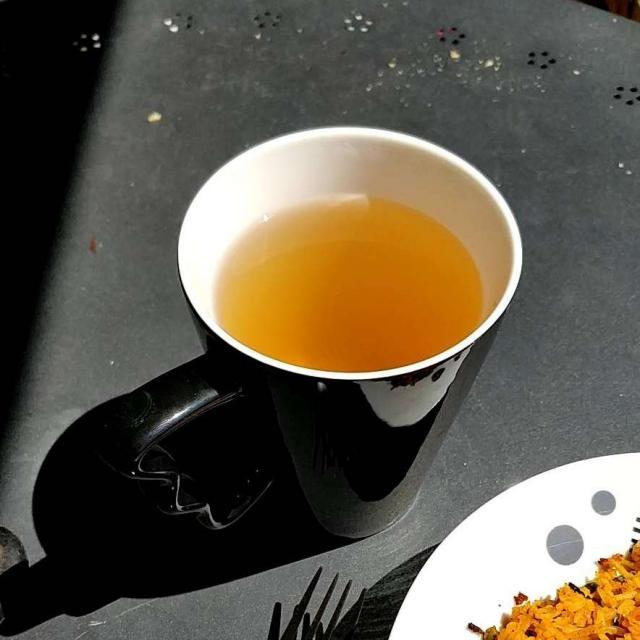tea: (217, 200, 481, 371)
